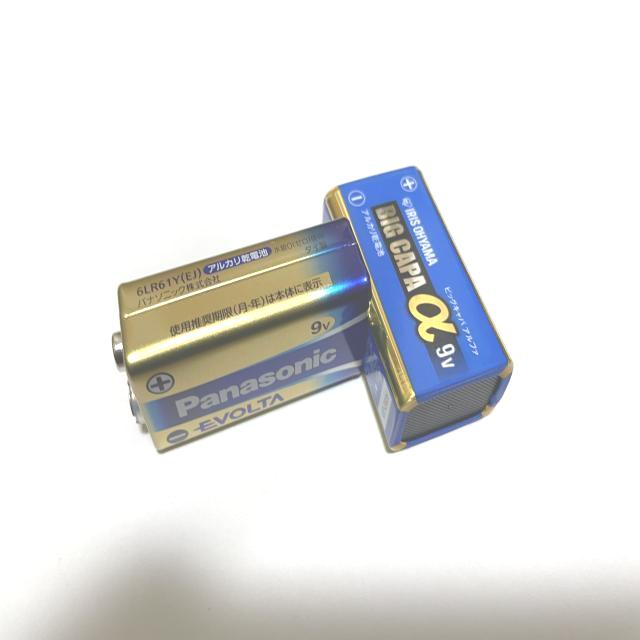9V: (110, 216, 376, 456), (320, 165, 515, 452)
